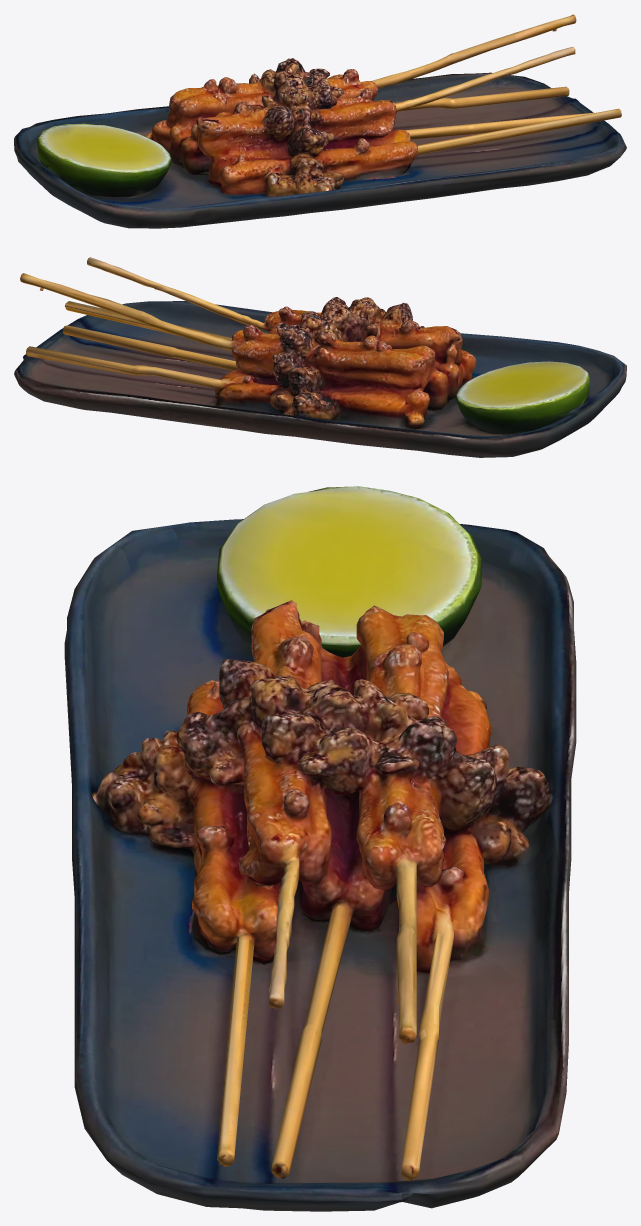
The model's file is chickpea-satay-lite.glb.
The picture shows the model from 3 angles, top to bottom: view 1: azimuth 30°, elevation 25°; view 2: azimuth 150°, elevation 25°; view 3: azimuth 270°, elevation 25°; orthographic projection. The views are drawn at different scales.
Visible parts, largest first — view 1: tripo_node_9c38dfc2; view 2: tripo_node_9c38dfc2; view 3: tripo_node_9c38dfc2.
Boxes of the visible parts, left/top/right/bottom form: tripo_node_9c38dfc2: left=14, top=14, right=626, bottom=228; tripo_node_9c38dfc2: left=14, top=257, right=626, bottom=457; tripo_node_9c38dfc2: left=64, top=486, right=576, bottom=1211.
Bounding box in the file's own units: 0.3 × 0.0652 × 0.1203.
Materials: 1 (1 with a texture image).
